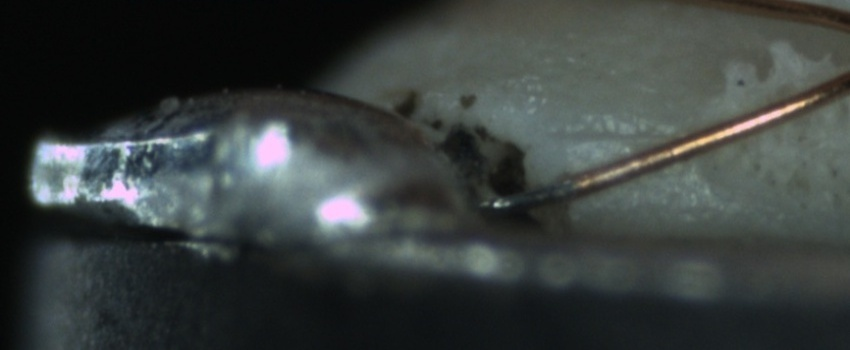DL: (555, 108, 680, 165)
TS: (485, 178, 576, 214)
TTCW: (482, 173, 584, 212)
